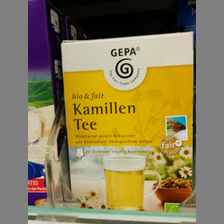tea: (59, 31, 194, 214)
